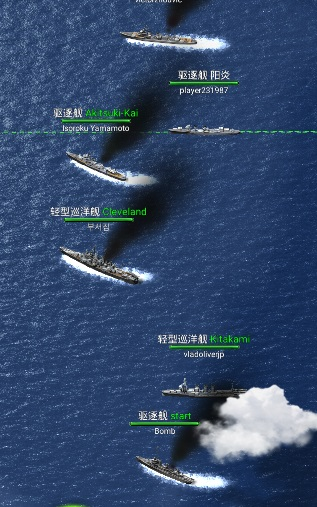ship: (59, 244, 141, 285), (63, 147, 128, 183), (135, 454, 195, 487), (120, 26, 200, 48), (163, 384, 247, 401), (169, 122, 241, 139)
